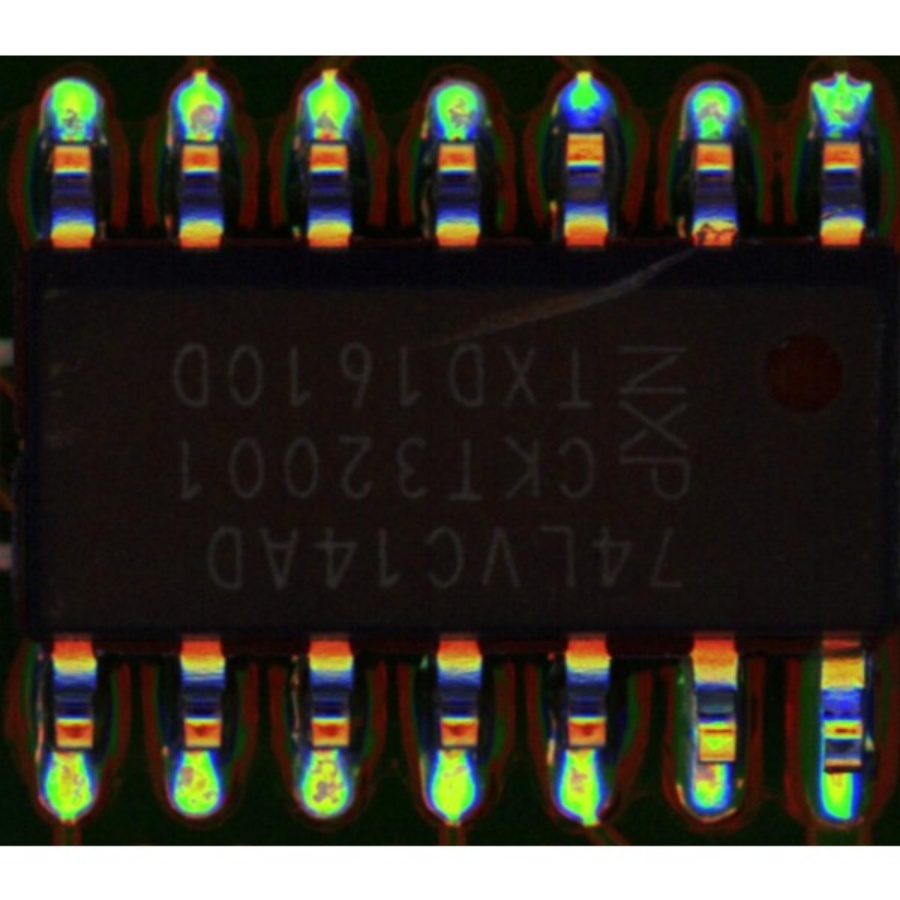Bad_podu: (313, 126, 342, 158), (824, 758, 852, 790), (698, 750, 725, 778)
